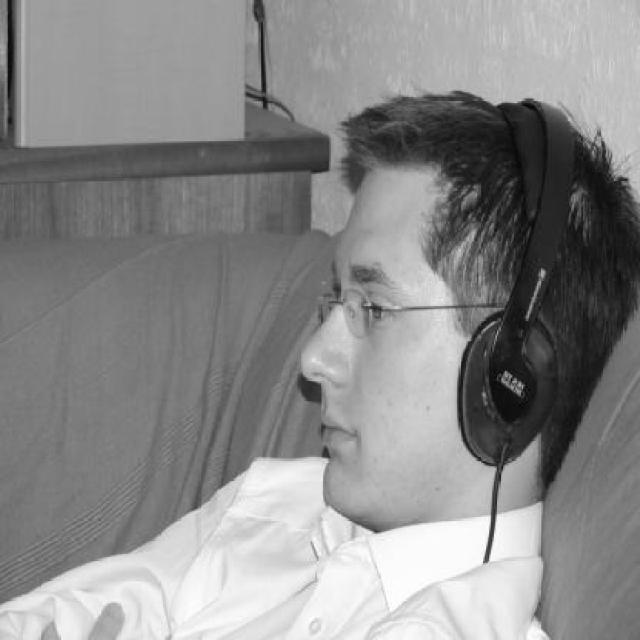earphone: (432, 95, 576, 488)
